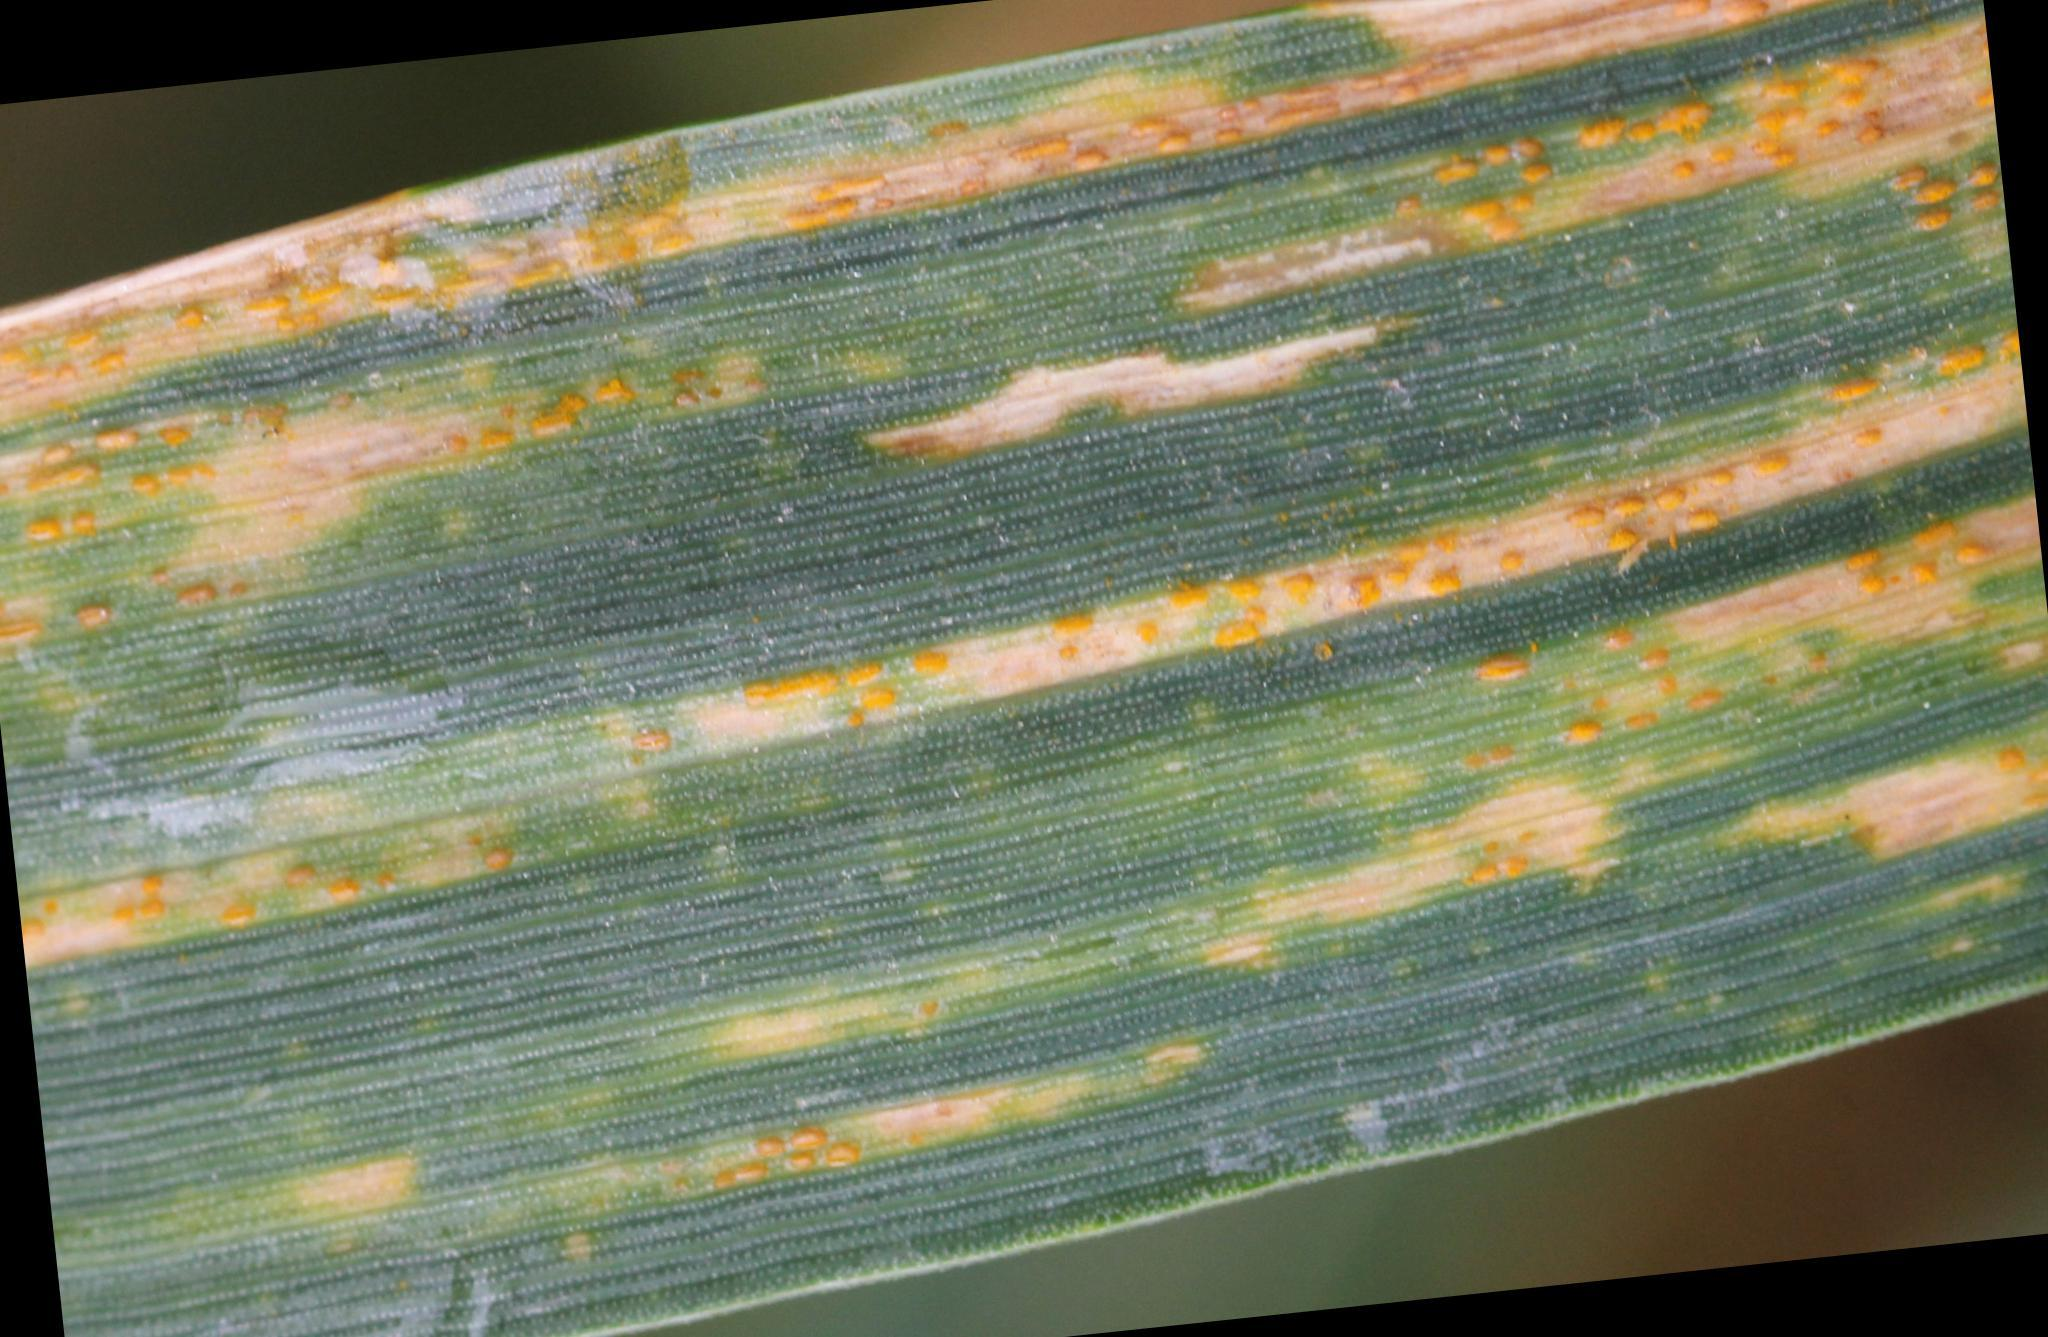Wheat: (737, 358, 1961, 765), (755, 46, 1494, 249), (1372, 46, 1911, 264), (1476, 604, 1755, 806), (419, 349, 772, 482), (667, 1104, 878, 1198)
